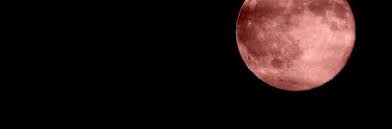moon: (230, 1, 356, 90)
